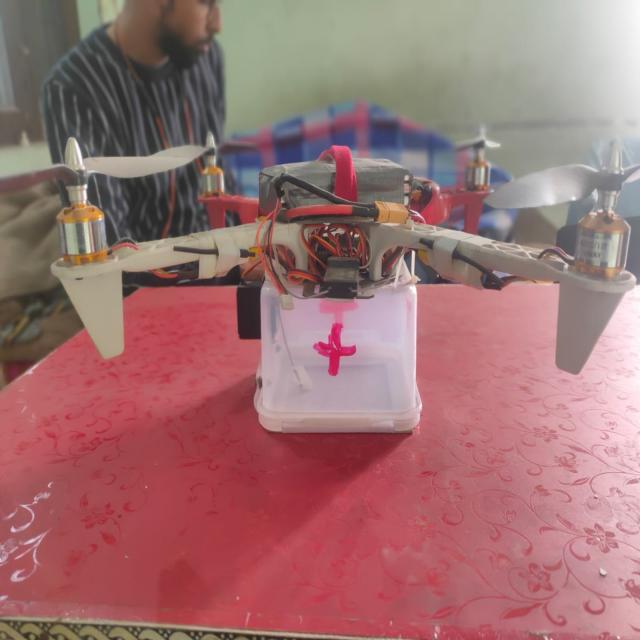Drone: (6, 107, 640, 471)
